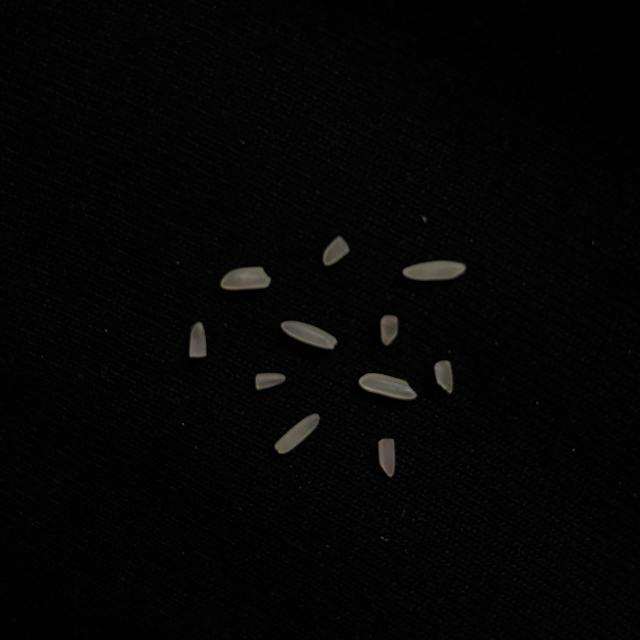Broken: (324, 236, 350, 266), (378, 437, 396, 477), (434, 359, 454, 394), (190, 322, 207, 357), (256, 371, 286, 390), (380, 314, 398, 345)
Full: (274, 412, 320, 454), (280, 319, 338, 350), (358, 372, 418, 401), (402, 260, 466, 280), (220, 266, 271, 290)
